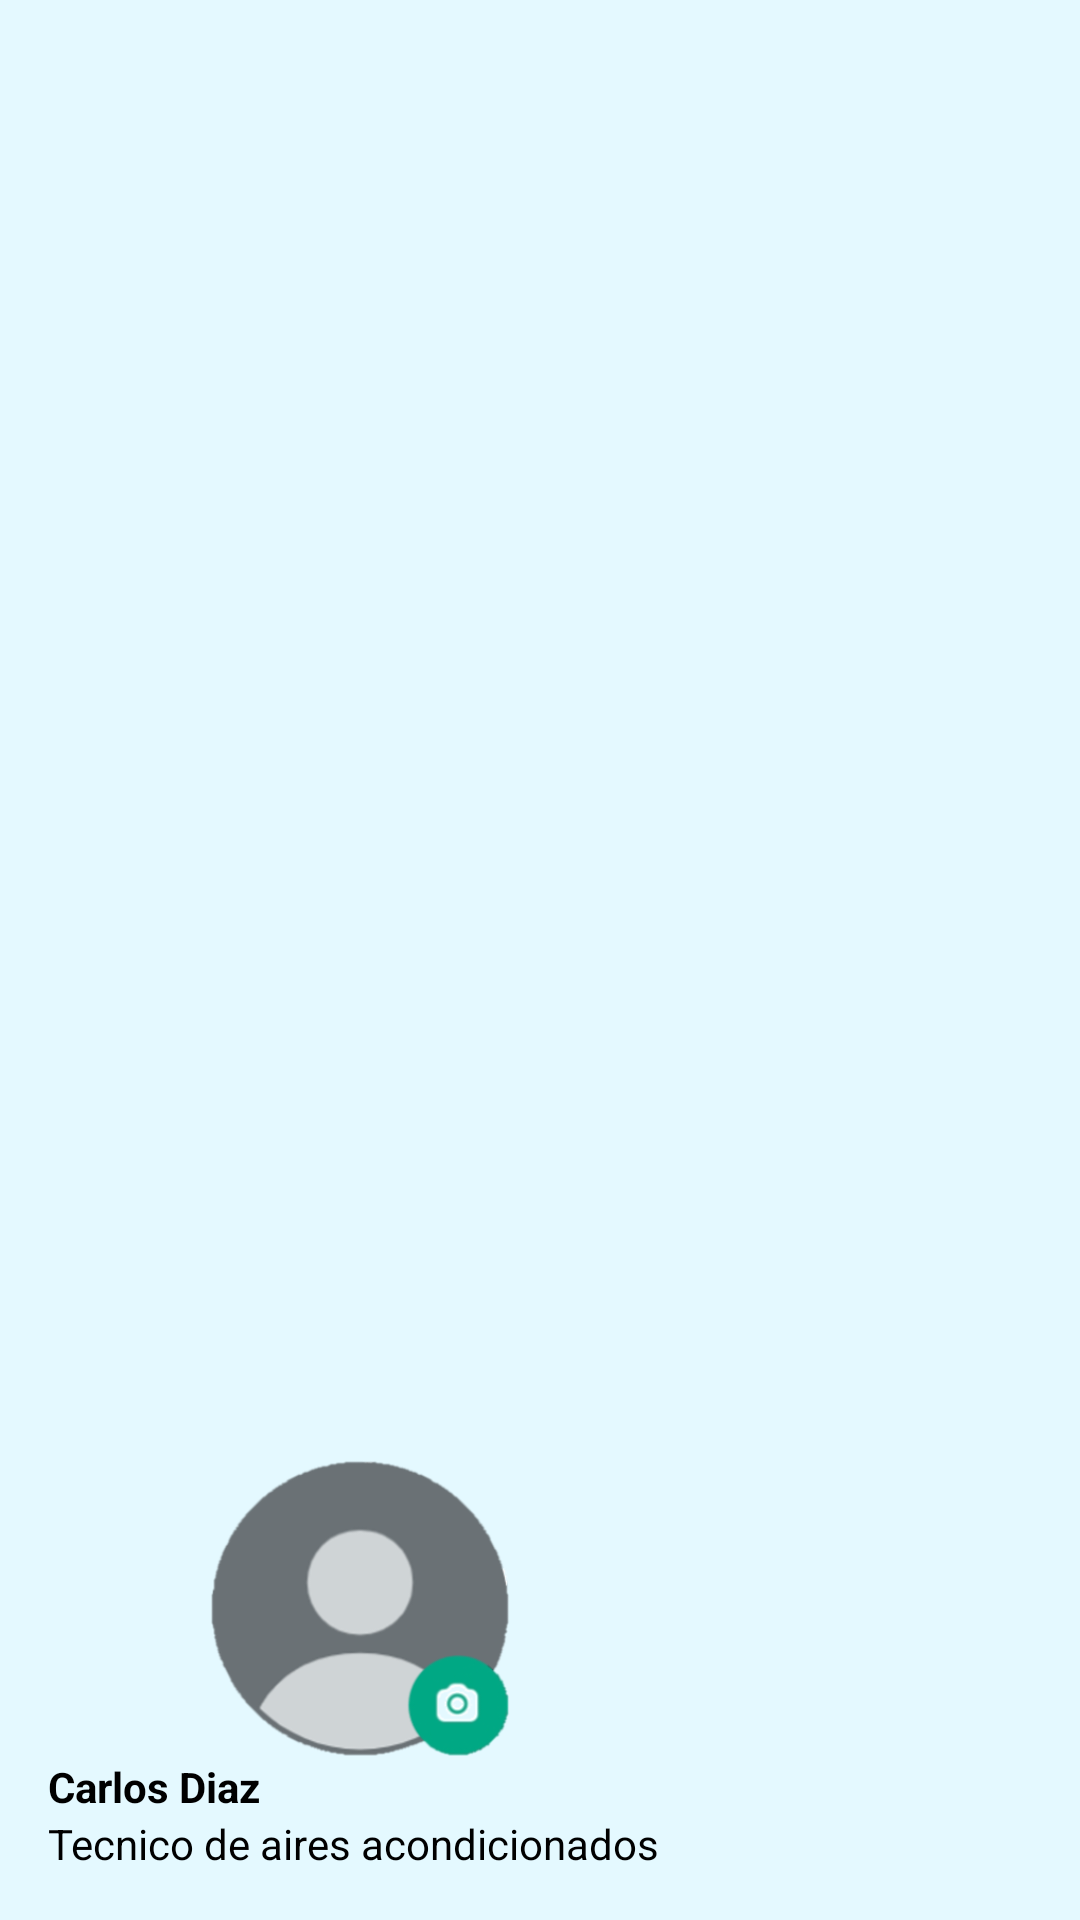

Screen size 1080*1920. Icon name, then its box in pixels as (x1, y1, x2, y2):
fotoperfil: (211, 1461, 509, 1756)
